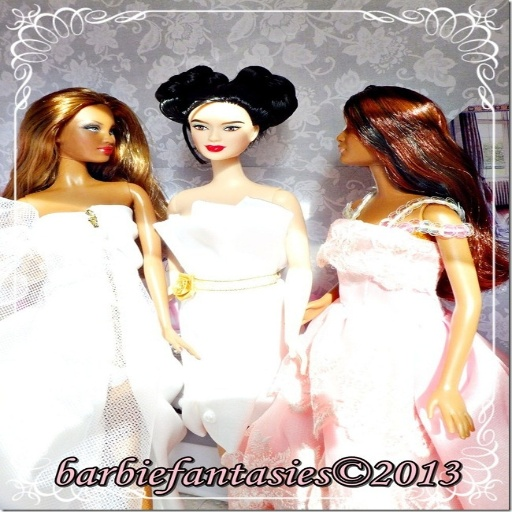hand: (426, 365, 480, 435), (163, 329, 202, 364), (281, 337, 308, 375), (303, 293, 329, 326)
